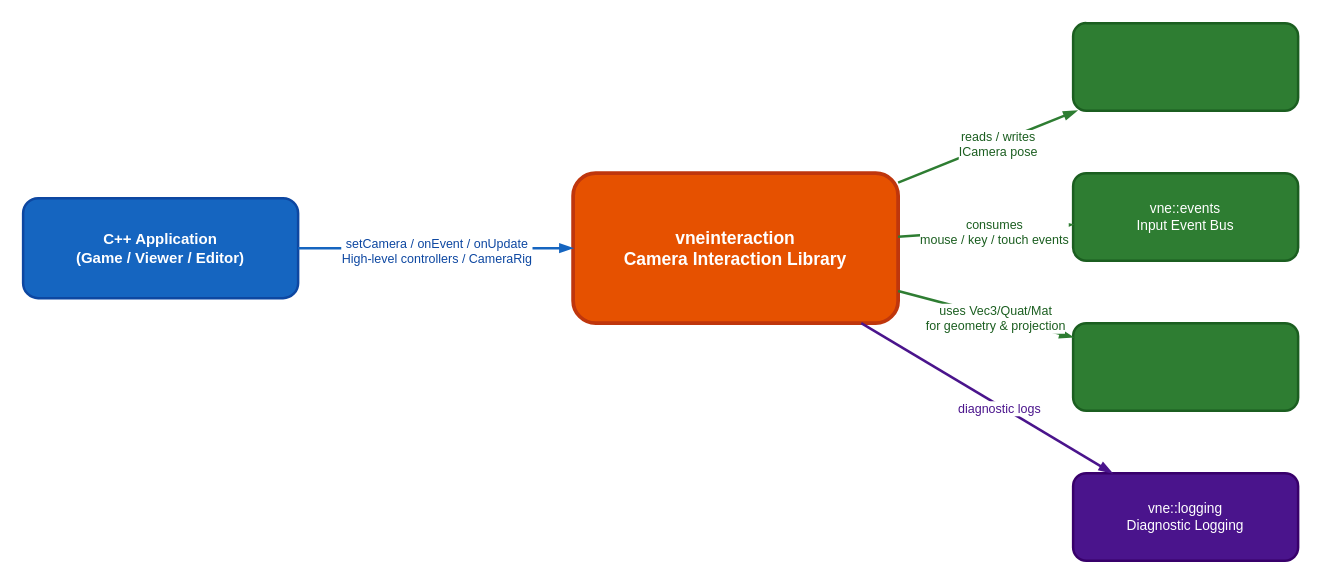
The diagram is 1320 pixels wide and 583 high, and some of its shapes have lost their labels. Here are the shapes that lost their labels. From the top down, the centre of each, then its label:
At (1185,66): "vne::scene Camera / Scene Model".
At (1185,366): "vne::math Vec / Quat / Mat / Camera".
